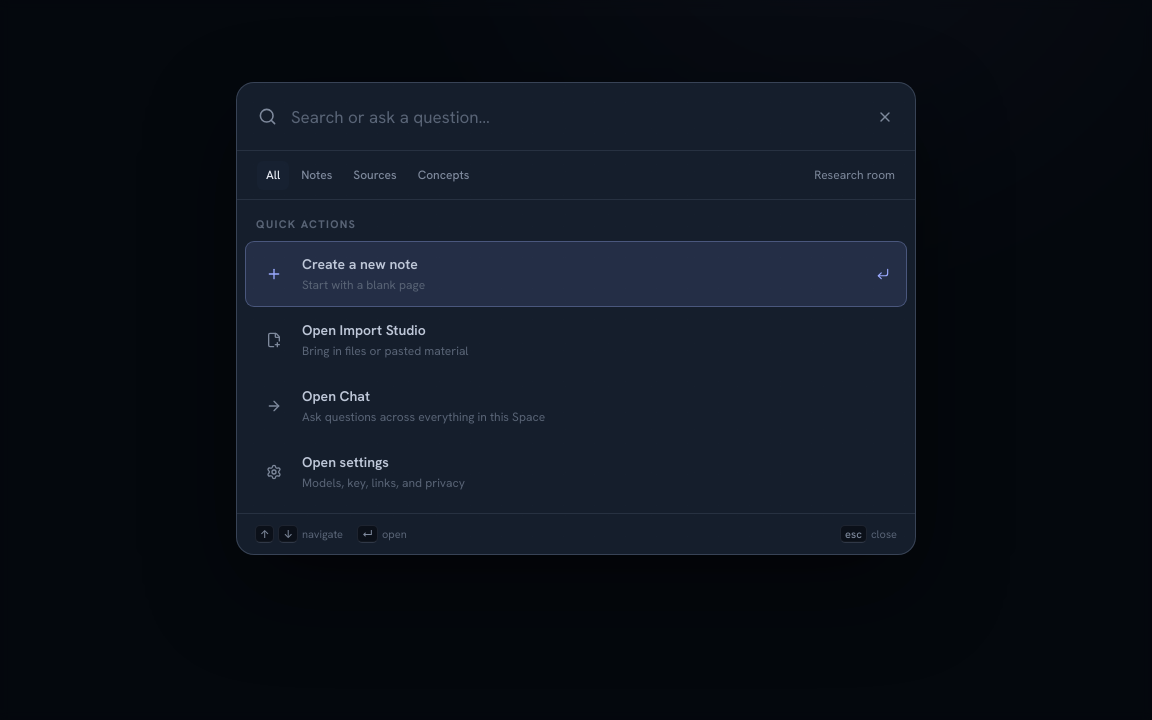
Test: CommandPalette search › filters before limiting and uses the active Space name
Type "quartz" into the dropdown named "Search Research room" at (574,116), box [289,104,859,128]
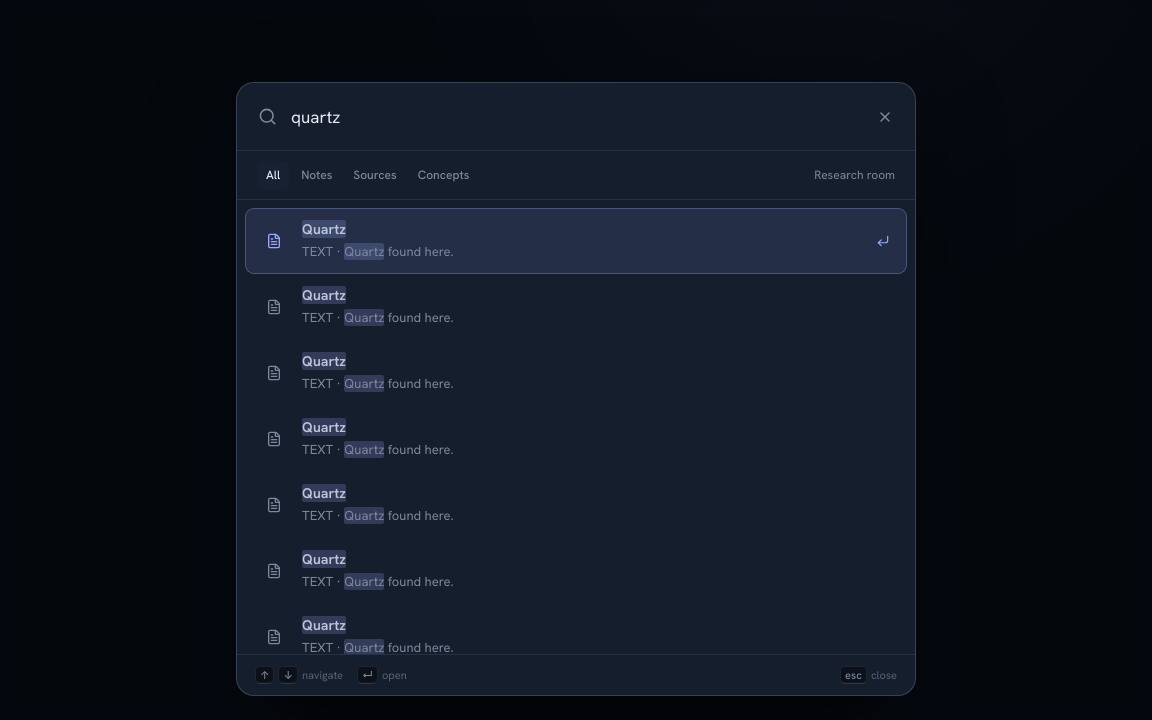
Click the button "Concepts" at (444,175), box [409,160,478,190]
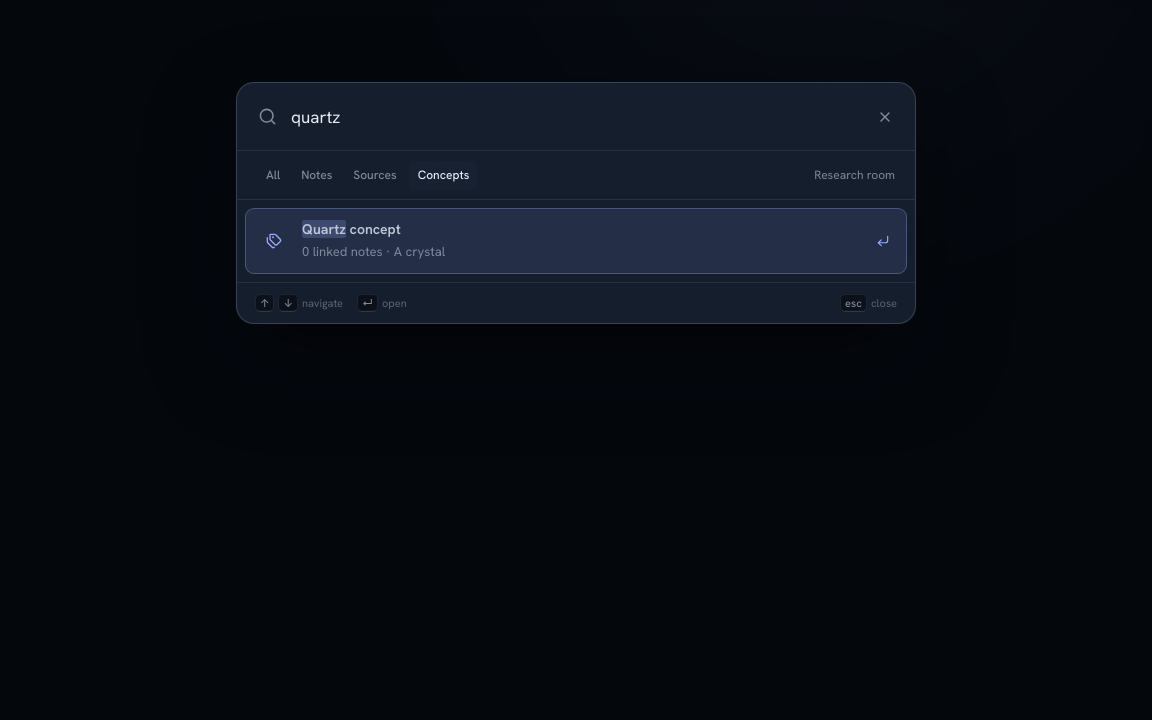
Result: the option "Quartz concept 0 linked notes · A crystal" is shown at [245,208,907,274]
Result: the option "Quartz found here" is gone
